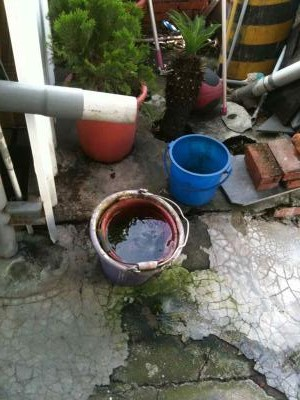bucket: (85, 185, 193, 290), (163, 130, 233, 209)
